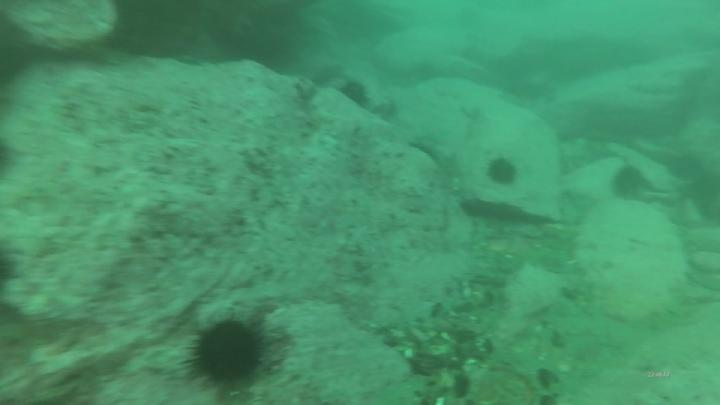echinus: (183, 310, 274, 395), (609, 163, 645, 203), (337, 79, 372, 113), (485, 155, 520, 187), (667, 153, 702, 181)
